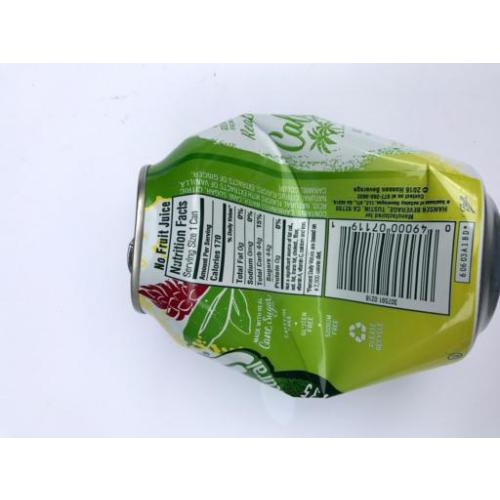metal: (129, 114, 500, 402)
